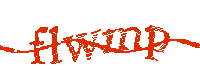f: (29, 25, 47, 67)
l: (48, 27, 63, 65)
m: (103, 27, 142, 53)
p: (146, 24, 171, 62)
w: (64, 28, 101, 64)
